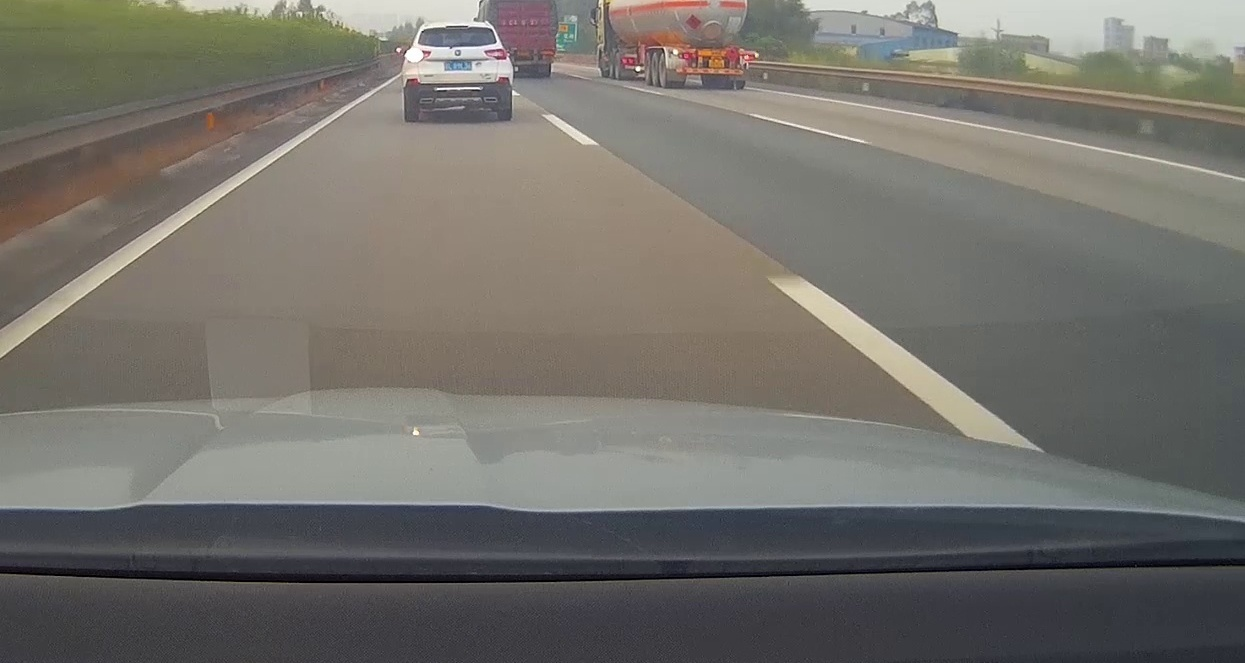L_light: (405, 50, 431, 59), (680, 53, 694, 58)
R_light: (484, 49, 507, 60), (743, 54, 755, 59)
T_light: (446, 25, 469, 29), (710, 50, 722, 52)
day-left: (402, 24, 513, 122)
day-no: (665, 49, 759, 89)
